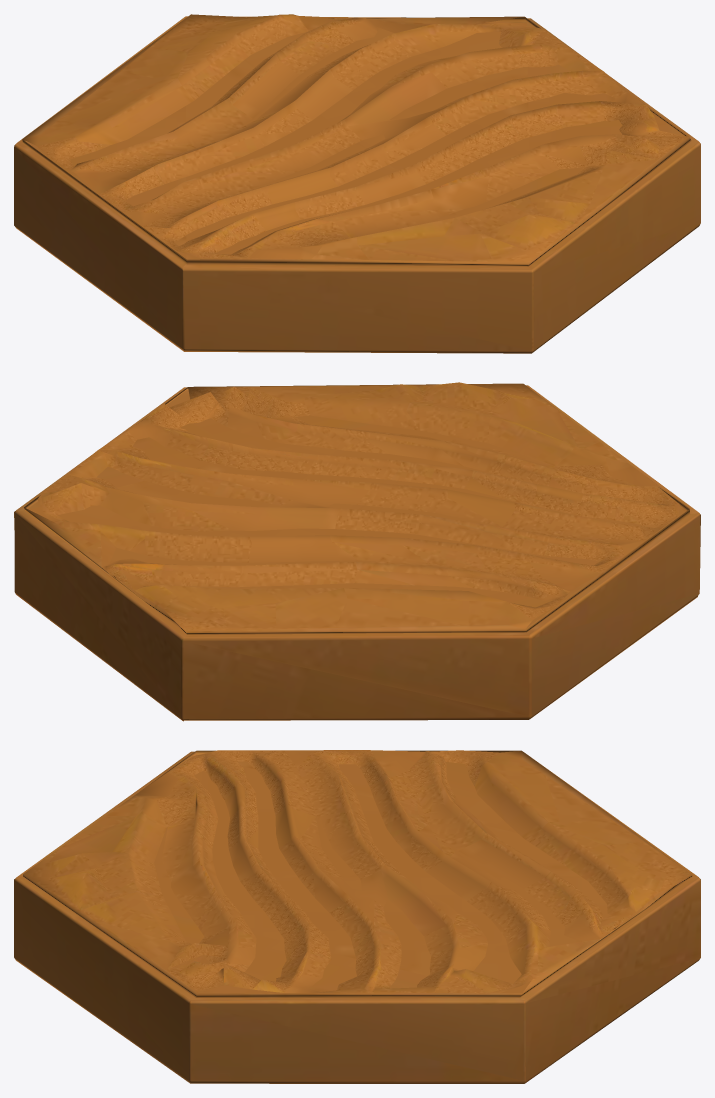
The model's file is floor-fields.glb.
3 renders of one model, top to bottom at view 1: azimuth 30°, elevation 25°; view 2: azimuth 150°, elevation 25°; view 3: azimuth 270°, elevation 25°, orthographic.
Bounding box in the file's own units: 0.8238 × 0.1602 × 0.9556.
Materials: 1 (1 with a texture image).
